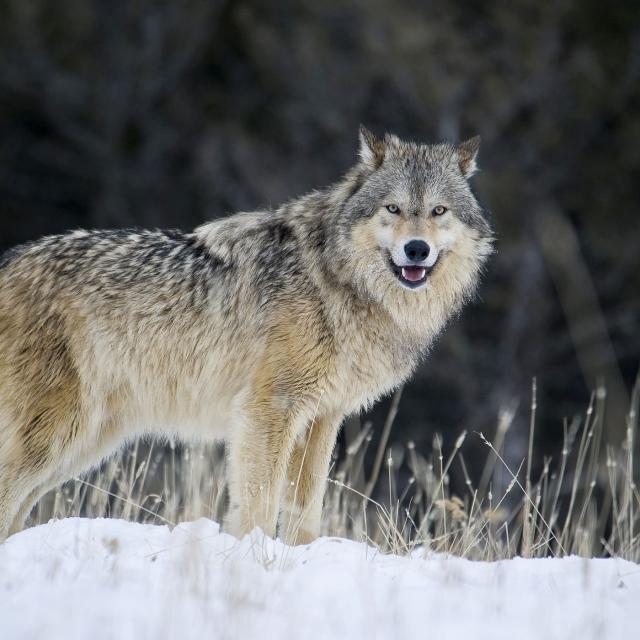Wolf: (0, 124, 497, 548)
